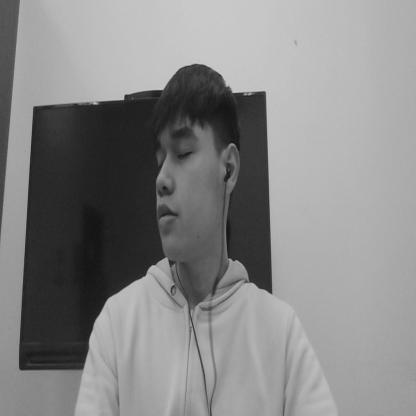Closed-Eyes: (154, 126, 198, 181)
